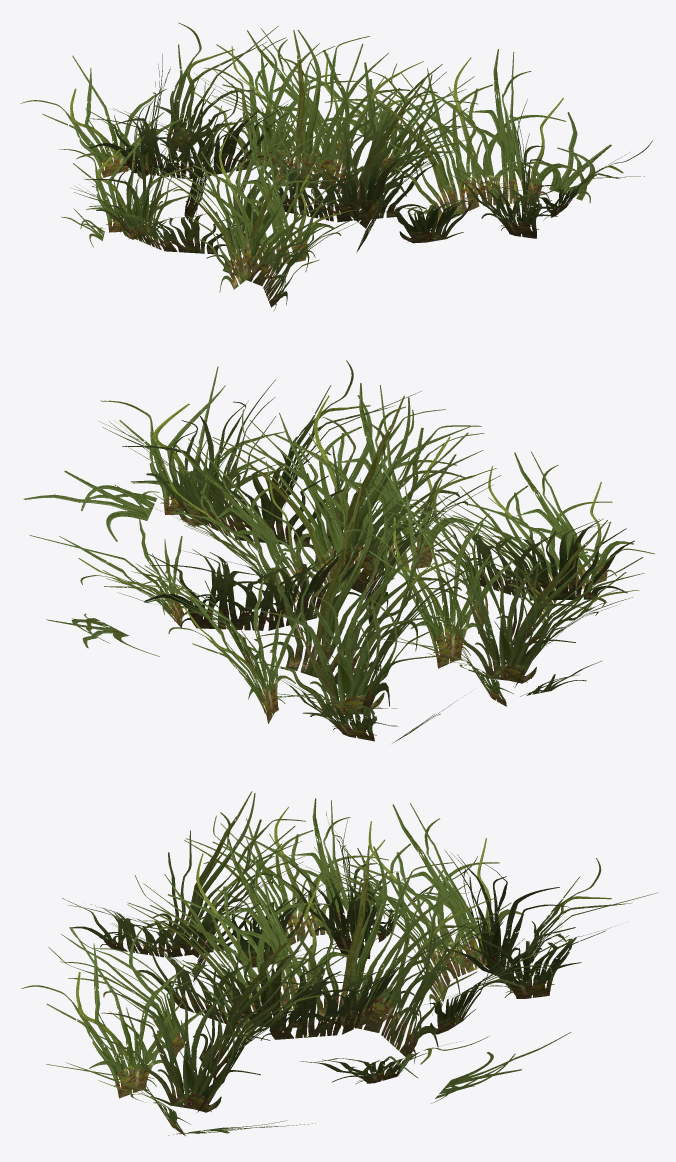
The model's file is SM_Fol_Grass_Set4.fbx.
The picture shows the model from 3 angles, top to bottom: view 1: azimuth 30°, elevation 25°; view 2: azimuth 150°, elevation 25°; view 3: azimuth 270°, elevation 25°; orthographic projection. The views are drawn at different scales.
Visible parts, largest first — view 1: SM_Fol_Grass_Set4; view 2: SM_Fol_Grass_Set4; view 3: SM_Fol_Grass_Set4.
Part boxes in pixels (x1,y1,x2,y2): SM_Fol_Grass_Set4: (20,22,652,311); SM_Fol_Grass_Set4: (23,360,654,743); SM_Fol_Grass_Set4: (21,791,658,1136).
Size of the model in its own units: 122 by 115 by 34.15.
Materials: 1 (1 with a texture image).
